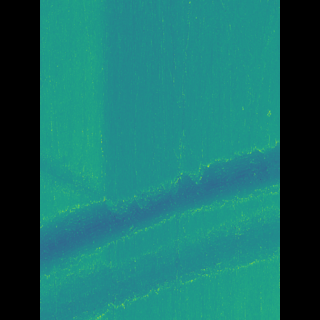Loch: (68, 138, 249, 320)
